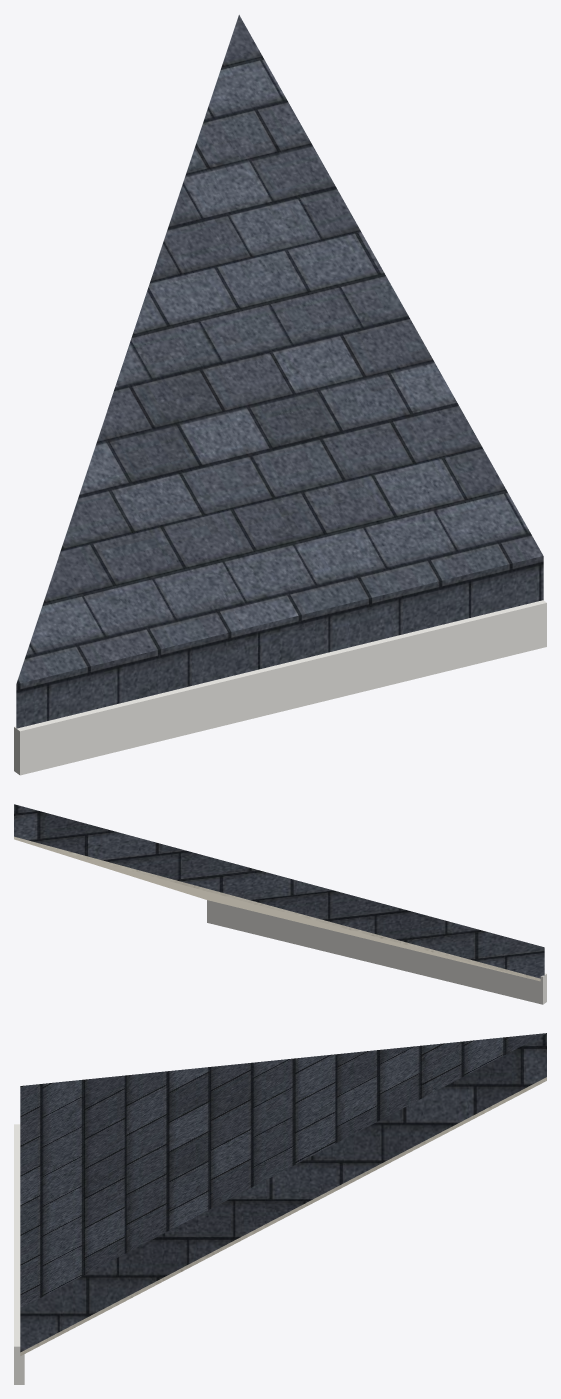
Rendered from roof_hip_5_l.glb.
3 renders of one model, top to bottom at view 1: azimuth 30°, elevation 25°; view 2: azimuth 150°, elevation 25°; view 3: azimuth 270°, elevation 25°, orthographic. The views are drawn at different scales.
Visible parts, largest first — view 1: roof_hip_5_l_shingle, roof_hip_5_l_trim; view 2: roof_hip_5_l_shingle, roof_hip_5_l_trim, roof_hip_5_l_plaster; view 3: roof_hip_5_l_shingle, roof_hip_5_l_plaster, roof_hip_5_l_trim.
Part boxes in pixels (<box>): roof_hip_5_l_shingle: <box>16,15,543,728</box>; roof_hip_5_l_trim: <box>14,600,546,775</box>; roof_hip_5_l_shingle: <box>14,804,544,978</box>; roof_hip_5_l_trim: <box>207,900,546,1004</box>; roof_hip_5_l_plaster: <box>14,836,540,981</box>; roof_hip_5_l_shingle: <box>20,1033,546,1352</box>; roof_hip_5_l_plaster: <box>20,1077,546,1355</box>; roof_hip_5_l_trim: <box>14,1124,24,1384</box>.
Bounding box in the file's own units: 2.5 × 1.84 × 2.53.
3 materials, 2 textured.
